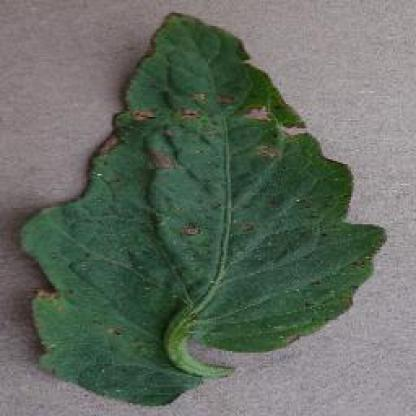bad leaf: (35, 37, 355, 411)
